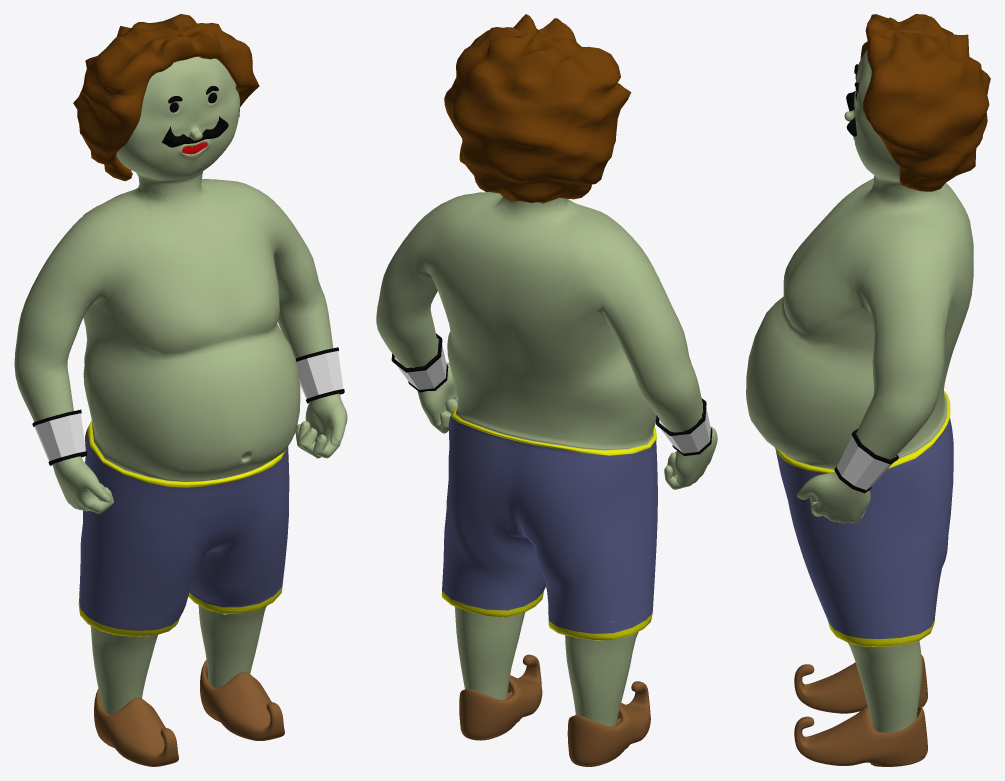
The model's file is Ausur FBX.fbx.
The picture shows the model from 3 angles, left to right: view 1: azimuth 30°, elevation 25°; view 2: azimuth 150°, elevation 25°; view 3: azimuth 270°, elevation 25°; orthographic projection. The views are drawn at different scales.
Parts seen in each view (by area): view 1: polySurface176; view 2: polySurface176; view 3: polySurface176.
Boxes of the visible parts, x1,y1,x2,y2 form: polySurface176: (14, 14, 347, 766); polySurface176: (376, 14, 717, 766); polySurface176: (746, 14, 990, 766).
Size of the model in its own units: 79.43 by 174 by 54.3.
